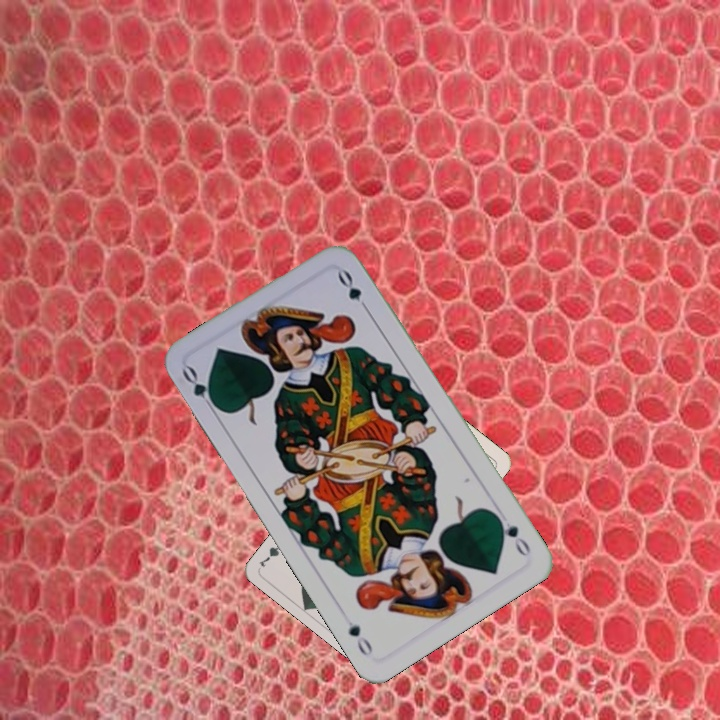GO: (177, 362, 222, 416), (491, 510, 534, 559)
